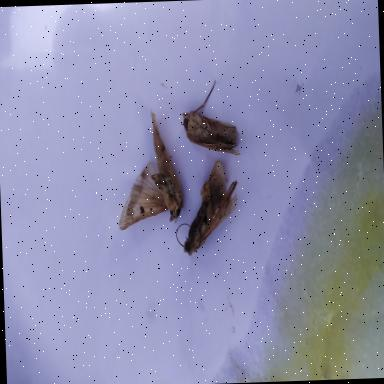abw: (114, 106, 185, 234), (173, 159, 240, 256), (180, 79, 240, 158)
